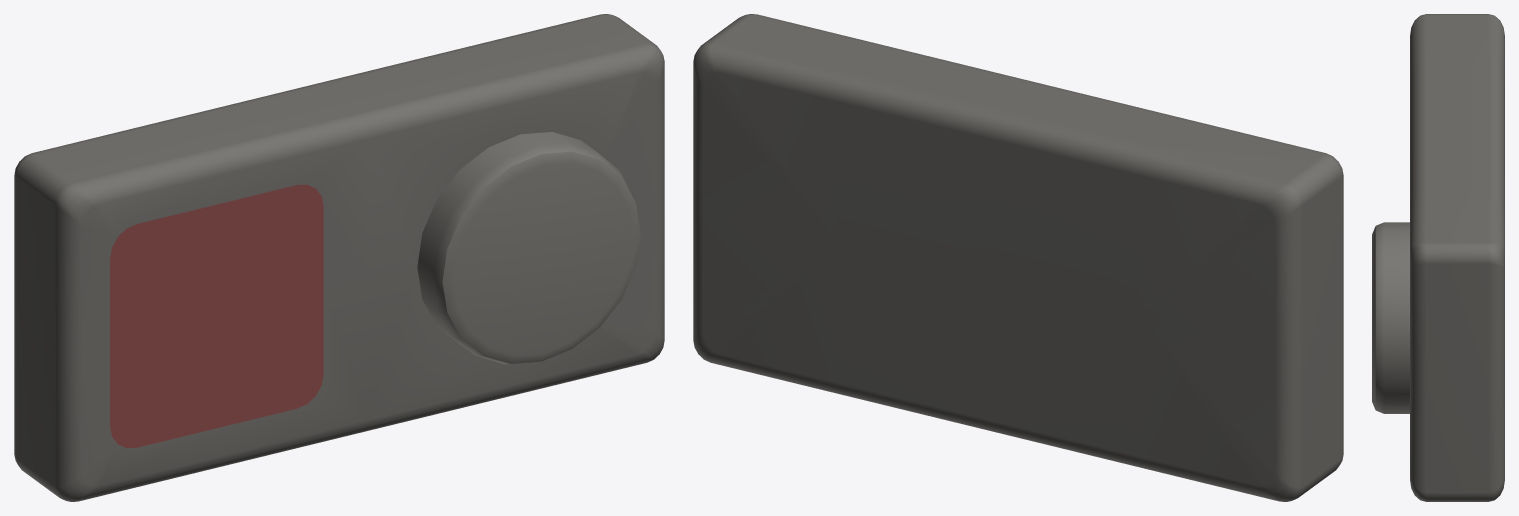
Rendered from SM Thermostat.fbx.
3 renders of one model, left to right at view 1: azimuth 30°, elevation 25°; view 2: azimuth 150°, elevation 25°; view 3: azimuth 270°, elevation 25°, orthographic. The views are drawn at different scales.
Parts seen in each view (by area): view 1: Thermostat_mesh; view 2: Thermostat_mesh; view 3: Thermostat_mesh.
Part boxes in pixels (bbox=[...]): Thermostat_mesh: bbox=[14, 14, 664, 501]; Thermostat_mesh: bbox=[693, 14, 1343, 501]; Thermostat_mesh: bbox=[1372, 14, 1504, 501].
Bounding box in the file's own units: 30 × 15 × 7.
